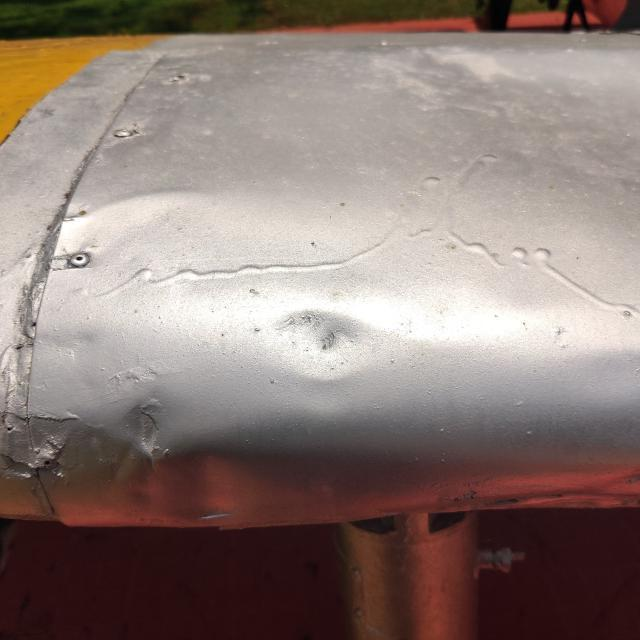Dent: (96, 382, 262, 548), (254, 275, 397, 412)
